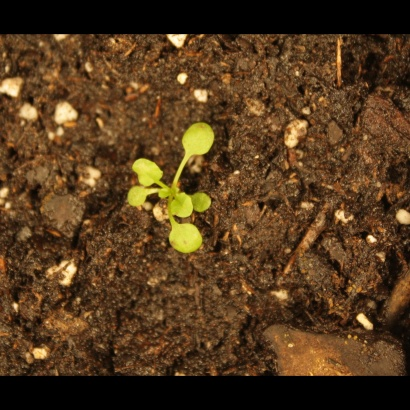leaf: (178, 120, 219, 160), (163, 219, 205, 257), (127, 153, 167, 187), (164, 193, 197, 221), (123, 181, 151, 211), (189, 190, 218, 216)
